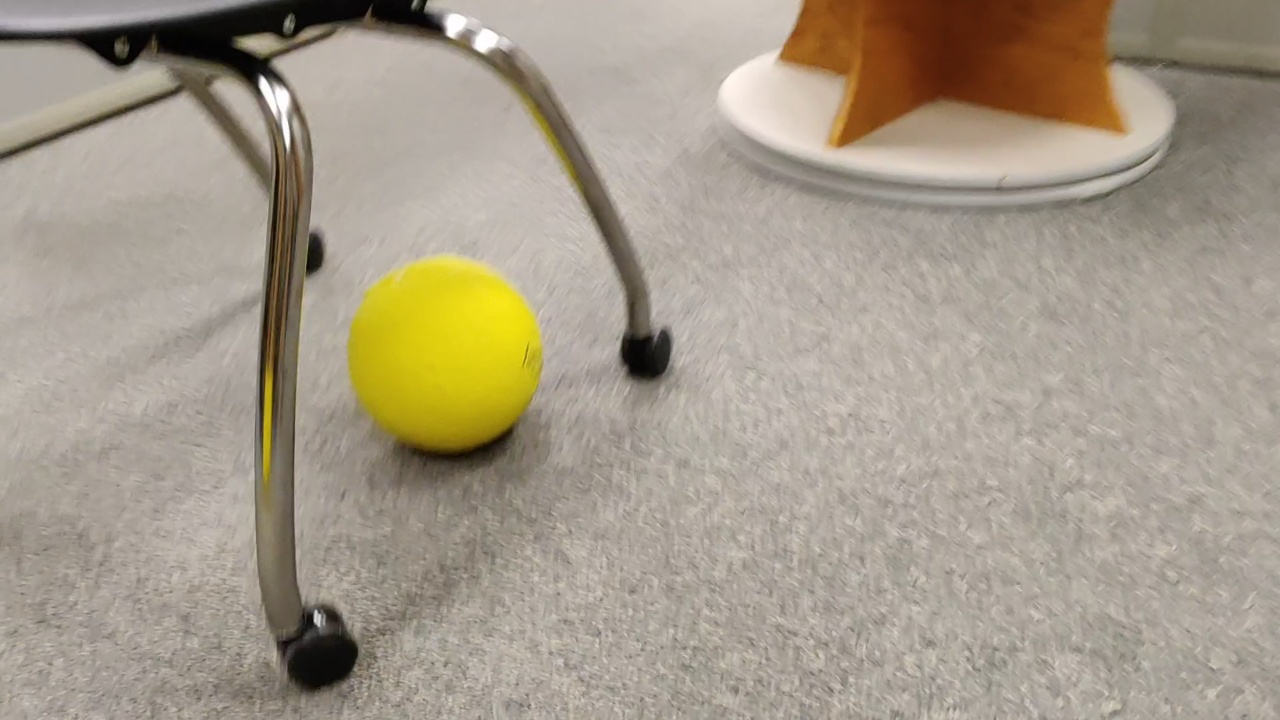Ball: (347, 255, 541, 466)
